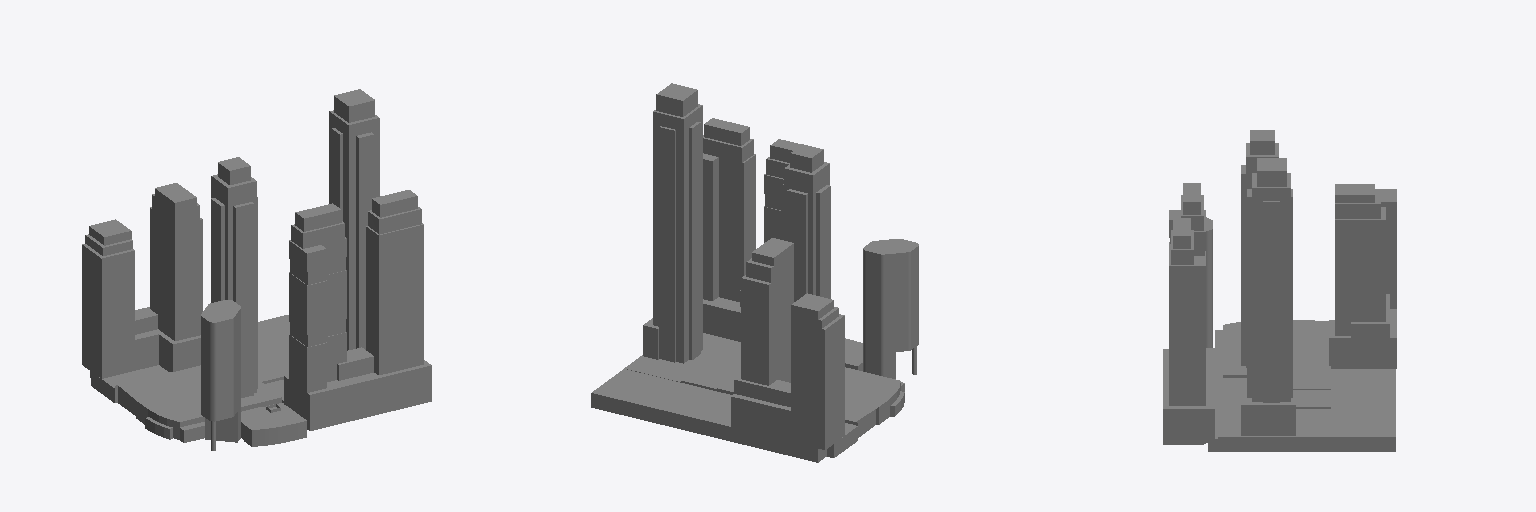
The model's file is hy_wry.obj.
3 views of the same model, side by side, from view 1: azimuth 30°, elevation 25°; view 2: azimuth 150°, elevation 25°; view 3: azimuth 270°, elevation 25° (orthographic).
Visible parts, largest first — view 1: hy_wry_05, hy_wry_04, hy_wry_platform, hy_wry_03, hy_wry_01, hy_wry_00; view 2: hy_wry_04, hy_wry_platform, hy_wry_03, hy_wry_05, hy_wry_00, hy_wry_01; view 3: hy_wry_platform, hy_wry_03, hy_wry_04, hy_wry_05, hy_wry_01, hy_wry_00.
Part boxes in pixels (x1,y1,x2,y2): hy_wry_05: (284, 190, 431, 430); hy_wry_04: (82, 183, 202, 378); hy_wry_platform: (90, 315, 306, 446); hy_wry_03: (329, 89, 379, 350); hy_wry_01: (211, 157, 257, 397); hy_wry_00: (201, 300, 240, 442); hy_wry_04: (731, 238, 844, 449); hy_wry_platform: (591, 333, 904, 462); hy_wry_03: (643, 83, 702, 363); hy_wry_05: (703, 118, 801, 341); hy_wry_00: (863, 239, 918, 378); hy_wry_01: (783, 144, 830, 301); hy_wry_platform: (1206, 320, 1395, 451); hy_wry_03: (1241, 158, 1295, 435); hy_wry_04: (1329, 184, 1396, 368); hy_wry_05: (1163, 183, 1214, 444); hy_wry_01: (1241, 130, 1278, 367); hy_wry_00: (1206, 217, 1212, 347).
Size of the model in its own units: 235 by 261 by 200.